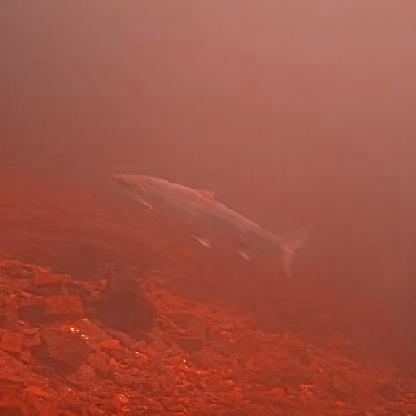salmon: (104, 165, 315, 277)
